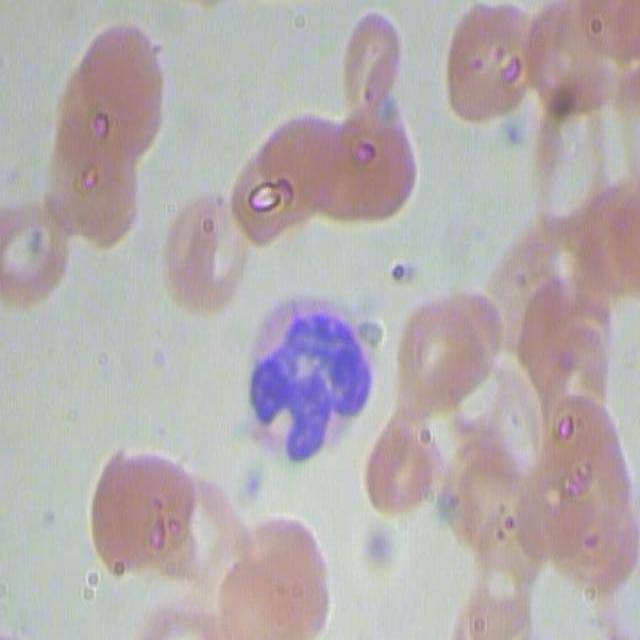RBC: (40, 24, 160, 249), (517, 390, 639, 584), (260, 115, 412, 222), (91, 444, 200, 578), (400, 294, 504, 418), (238, 116, 338, 242), (222, 522, 326, 637), (448, 1, 537, 126), (164, 192, 254, 312), (519, 276, 614, 389), (363, 398, 448, 516), (524, 0, 610, 116), (575, 170, 640, 298), (0, 203, 67, 307), (343, 12, 401, 127), (450, 565, 544, 632), (586, 0, 638, 54)
WBC: (248, 312, 370, 464)
platelets: (367, 534, 390, 564), (501, 124, 526, 146), (391, 260, 413, 280), (367, 320, 379, 347), (248, 479, 263, 494)
